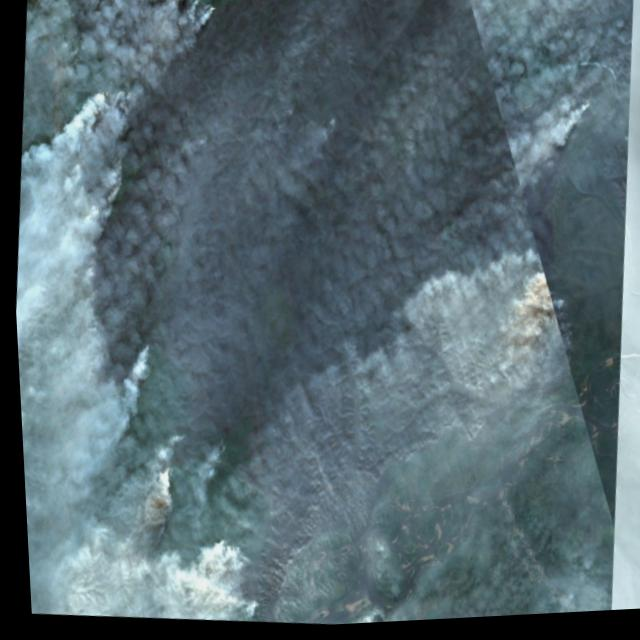fire: (183, 528, 262, 625), (81, 84, 132, 191), (194, 437, 229, 473), (558, 92, 595, 124), (184, 0, 223, 30), (149, 462, 177, 499), (130, 337, 147, 376)
